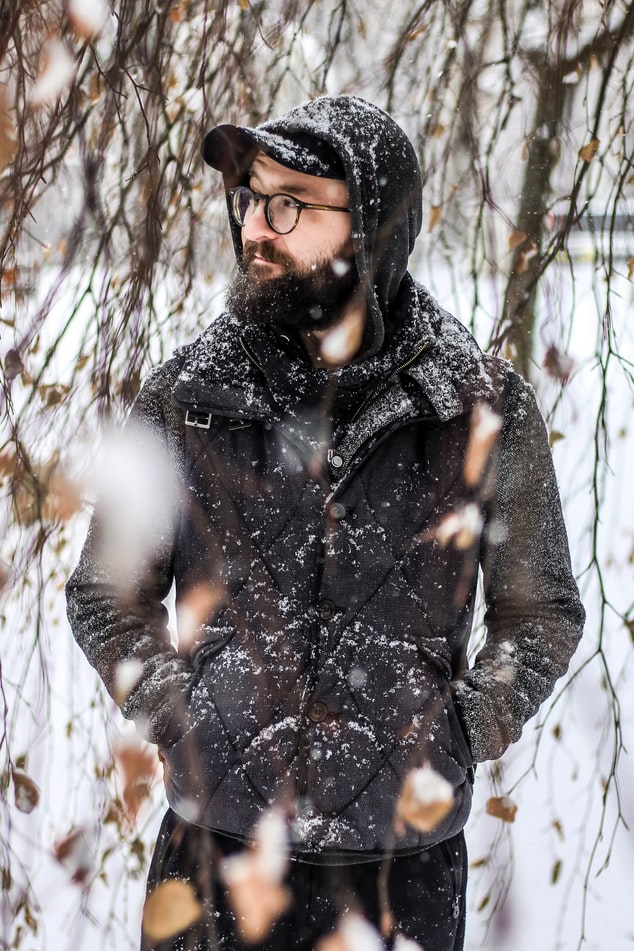beard: (224, 243, 364, 338)
glasses: (226, 186, 332, 235)
